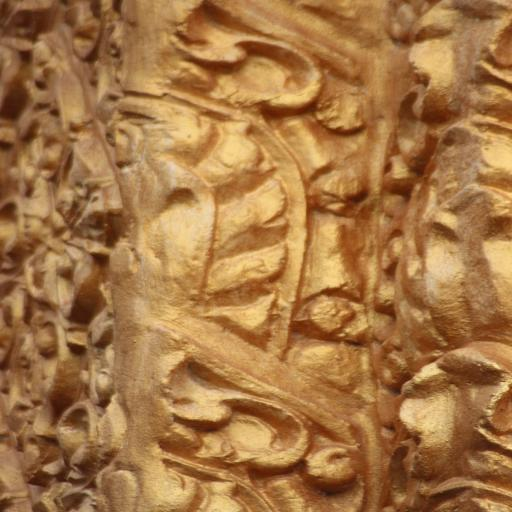la: (0, 17, 512, 512)
